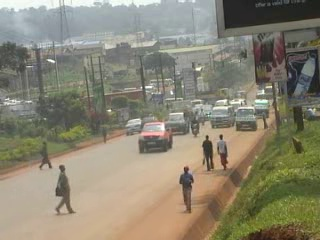Car: (140, 113, 163, 129), (125, 116, 142, 136), (195, 104, 215, 119)
Motorcycle: (190, 117, 201, 137), (197, 109, 205, 125)
